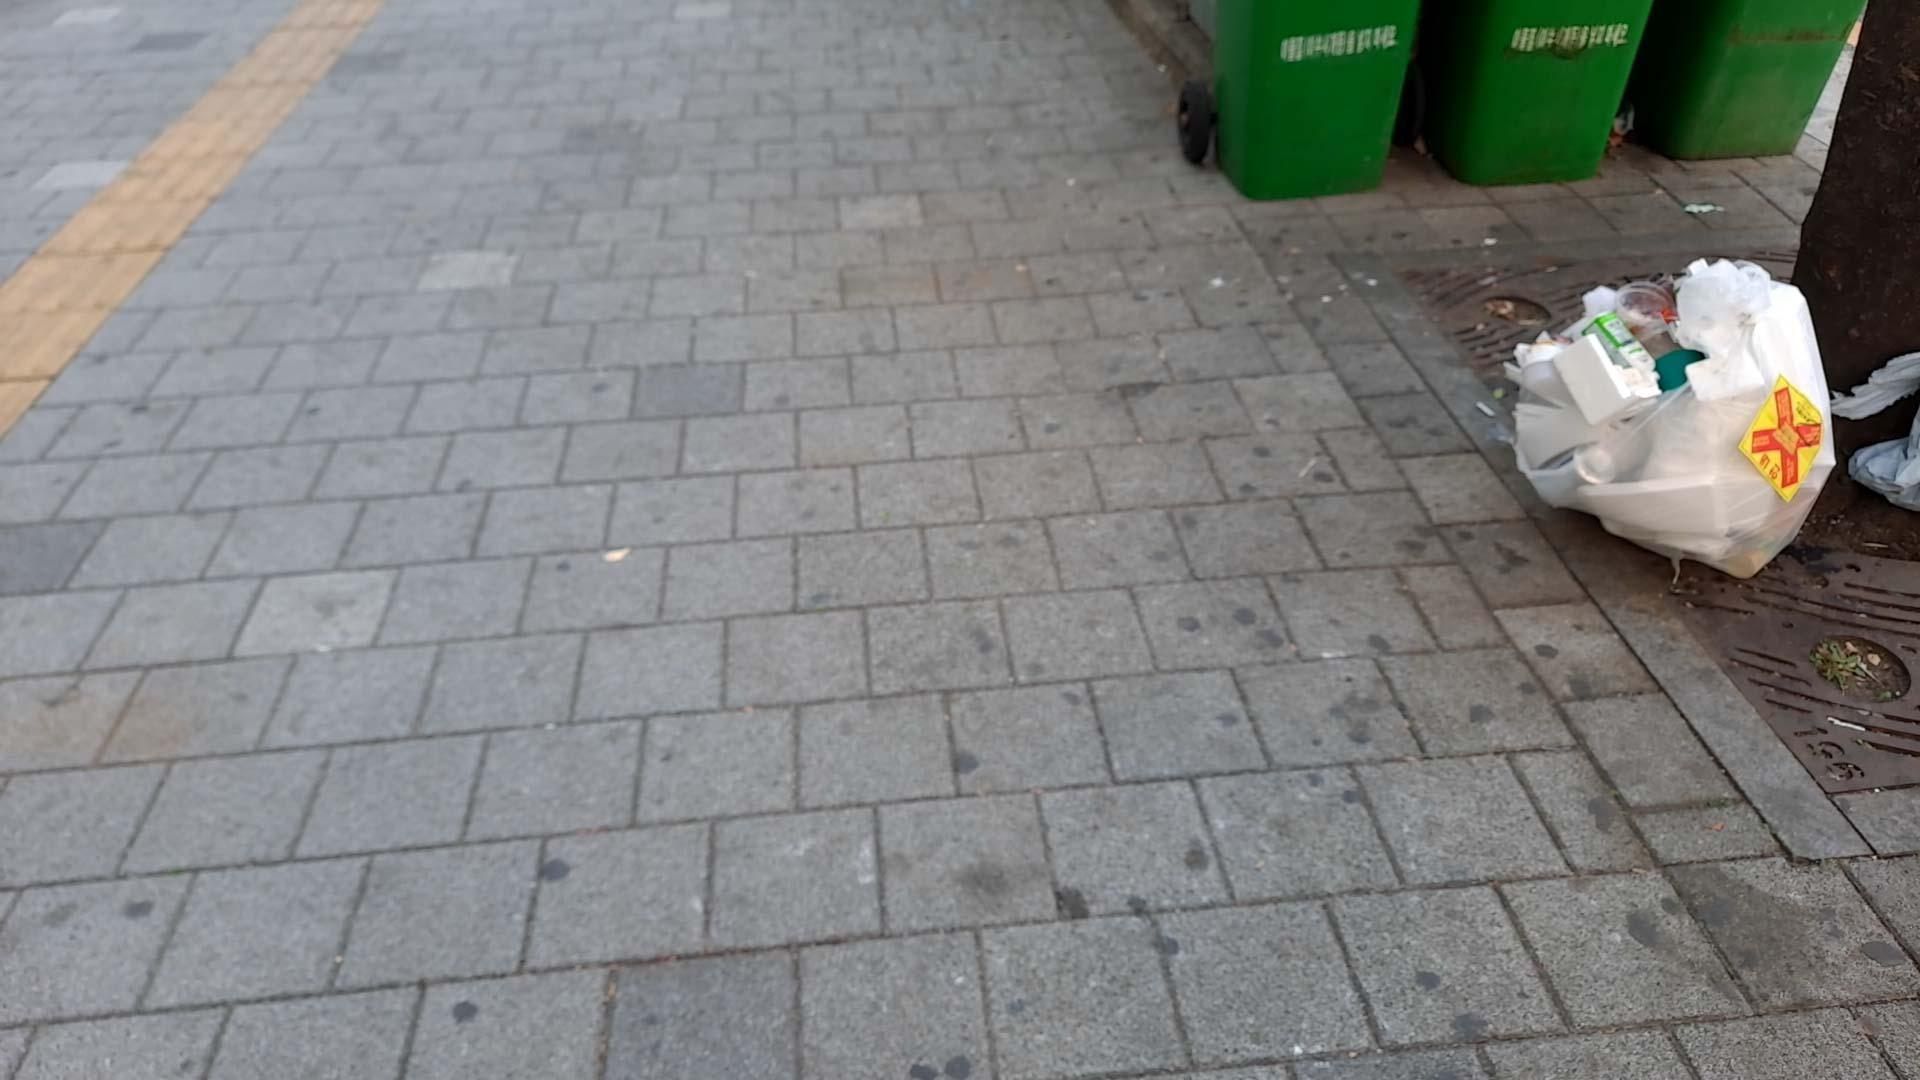white_bag: (1466, 229, 1838, 607)
